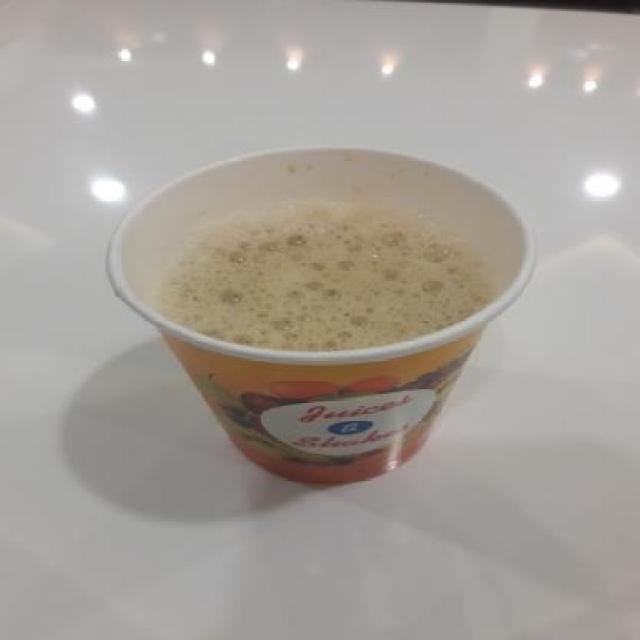garbage: (71, 103, 614, 506)
